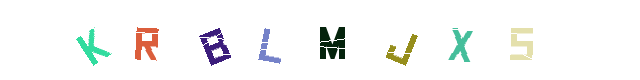B: (220, 0, 300, 80)
J: (292, 0, 372, 80)
K: (106, 0, 186, 80)
L: (224, 0, 304, 80)
M: (281, 0, 361, 80)
R: (176, 0, 256, 80)
S: (435, 0, 515, 80)
X: (361, 0, 441, 80)
